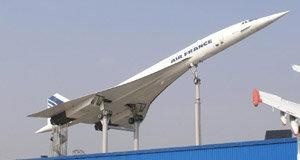airplane: (24, 8, 290, 137)
